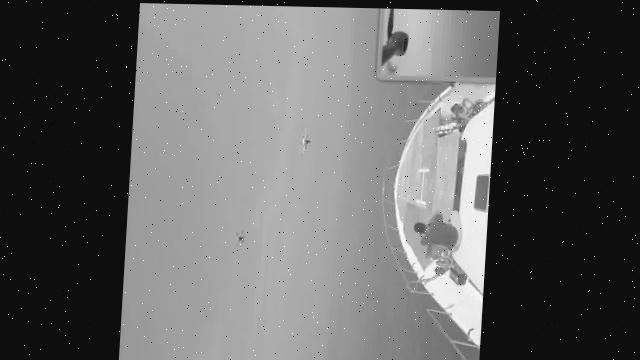drone: (293, 128, 320, 159), (229, 224, 251, 249)
